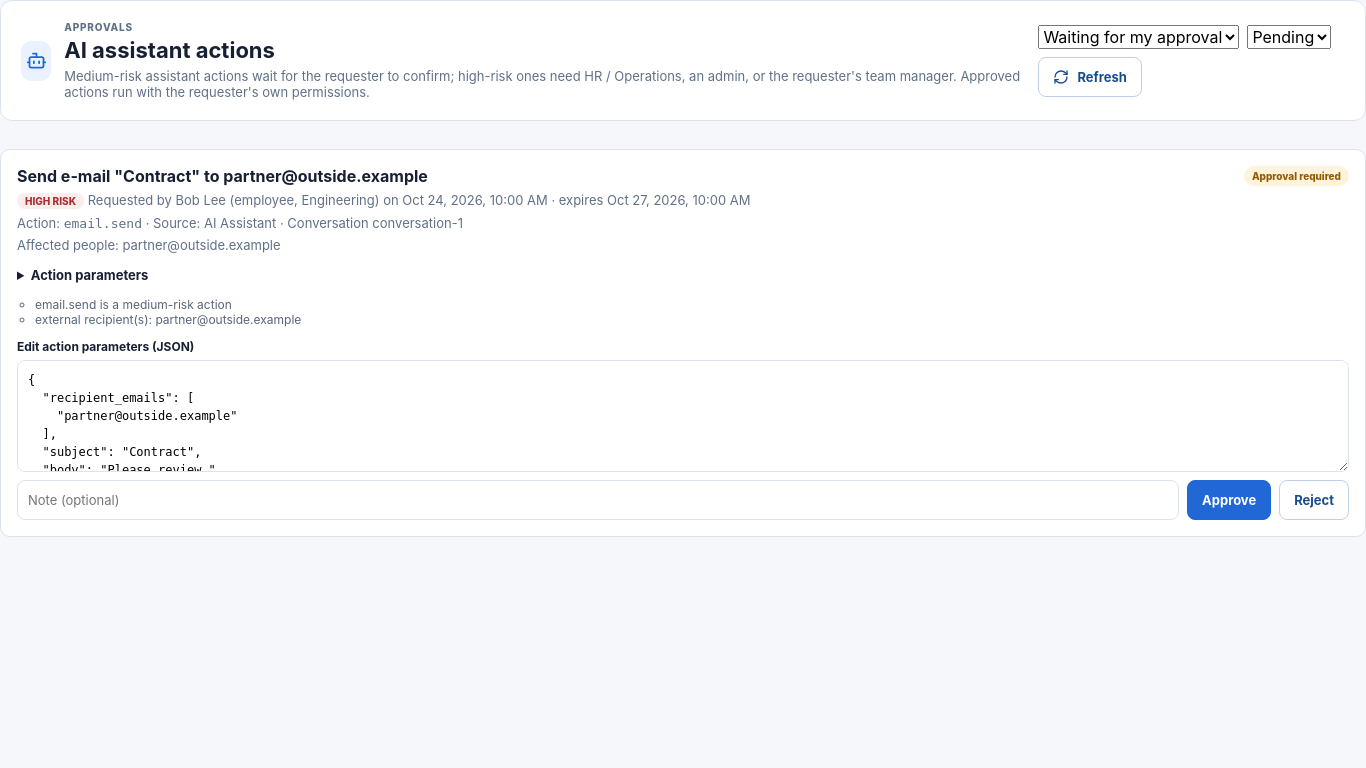
Scenario: AgentApprovalsSection › shows the risk, the reasons and approves with a note
This screenshot has width=1366, height=768.
Expected: the text "Send e-mail \"Contract\" to partner@outside.example" is shown, left=17, top=166, right=428, bottom=186
Expected: the text "high risk" is shown, left=17, top=193, right=84, bottom=209
In the field with placeholder "Note (optional)": (598, 500) left=17, top=480, right=1179, bottom=520, type "OK"
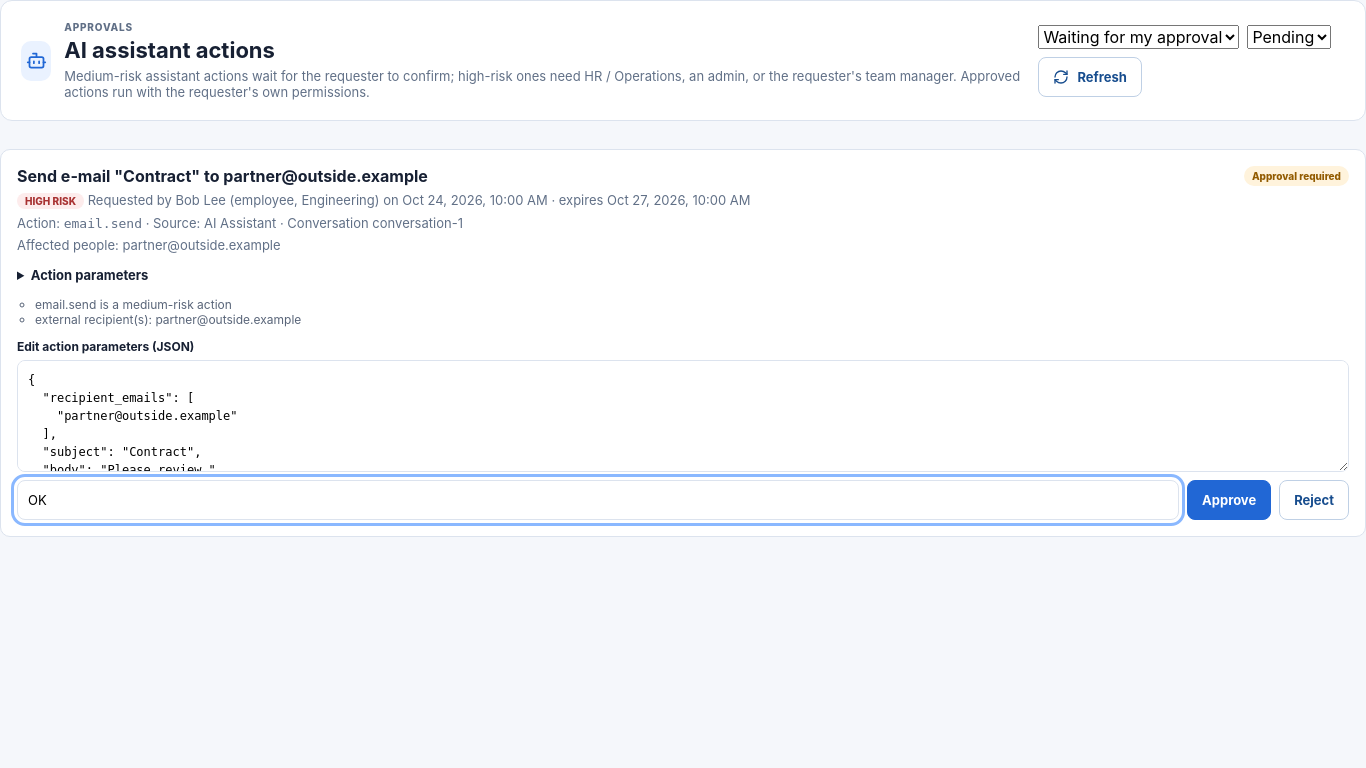
Click the button "Approve": (1229, 500) left=1187, top=480, right=1271, bottom=520
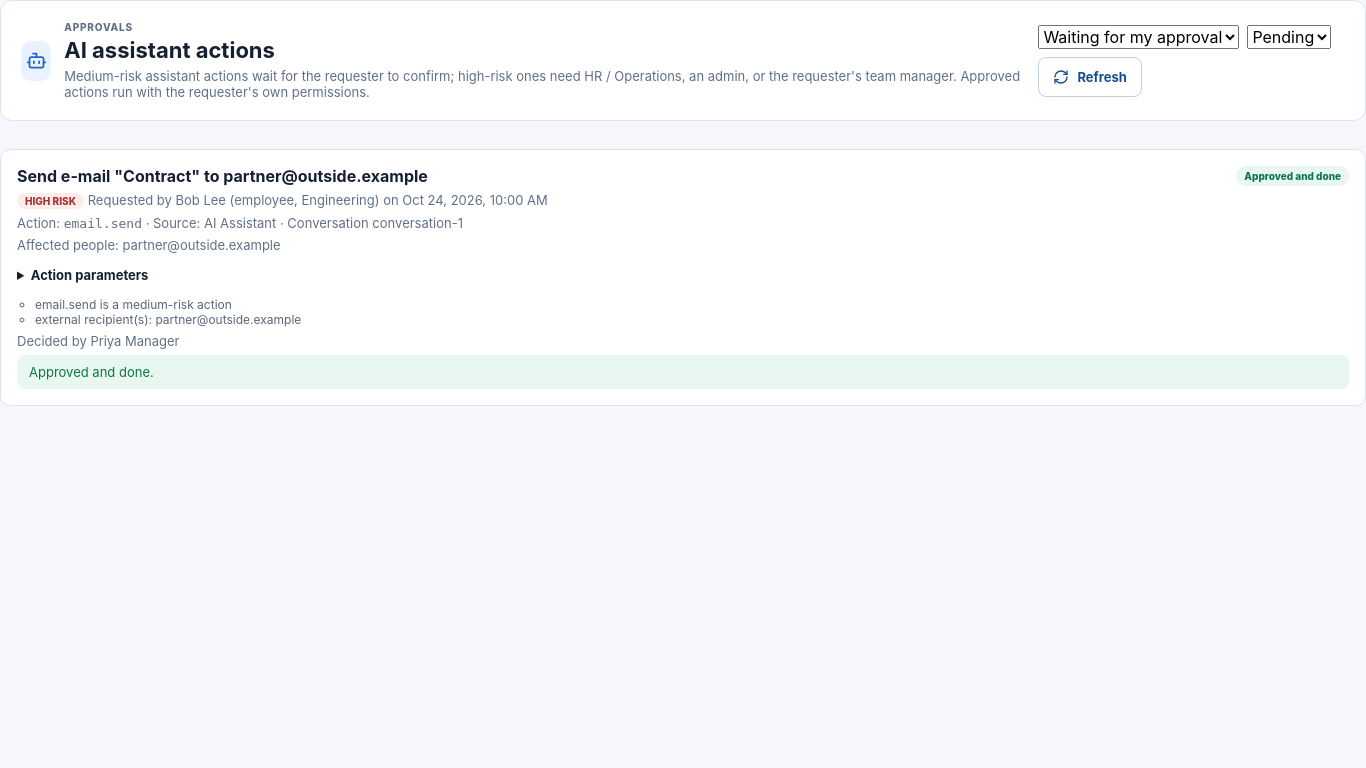
Expected: the text "Approved and done." is shown, left=17, top=355, right=1349, bottom=389
Expected: the text "Approved and done" is shown, left=1236, top=166, right=1349, bottom=186
